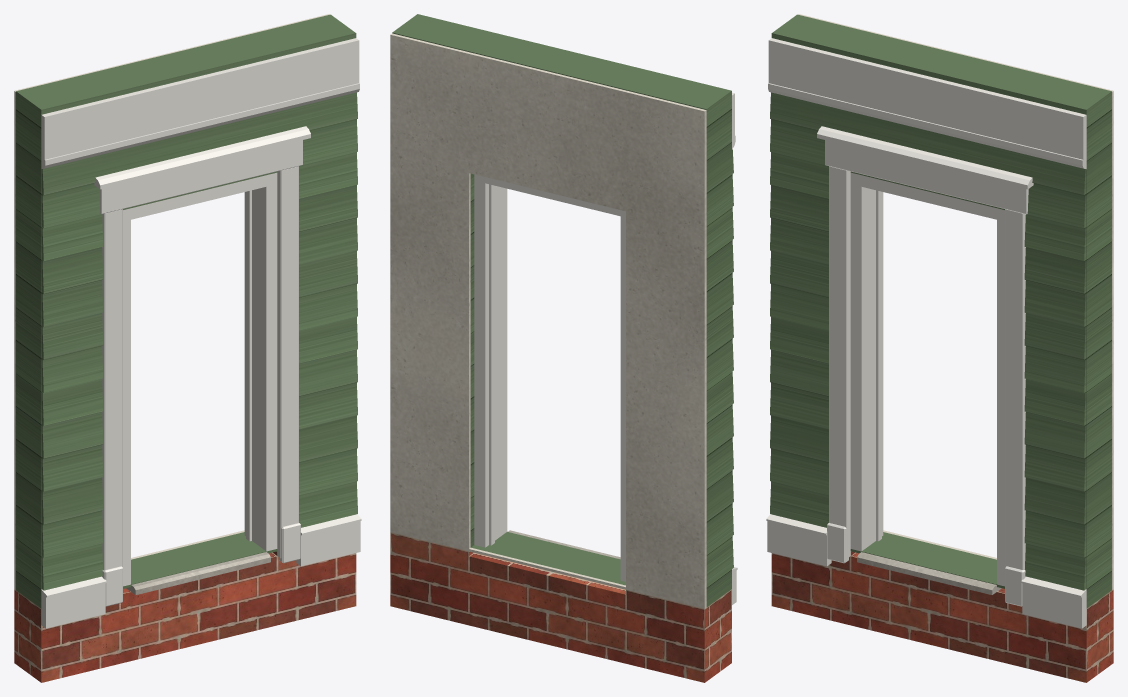
File: wall_siding_door.glb
3 views of the same model, side by side, from view 1: azimuth 30°, elevation 25°; view 2: azimuth 150°, elevation 25°; view 3: azimuth 330°, elevation 25° (orthographic).
Parts seen in each view (by area): view 1: wall_siding_door_siding, wall_siding_door_trim, wall_siding_door_brick, wall_siding_door_frame, wall_siding_door_plaster, wall_siding_door_cap; view 2: wall_siding_door_plaster, wall_siding_door_siding, wall_siding_door_brick, wall_siding_door_frame; view 3: wall_siding_door_siding, wall_siding_door_trim, wall_siding_door_brick, wall_siding_door_frame, wall_siding_door_plaster, wall_siding_door_cap.
Boxes of the visible parts, bbox=[...] form: wall_siding_door_siding: bbox=[16, 14, 357, 608]; wall_siding_door_trim: bbox=[41, 38, 361, 628]; wall_siding_door_brick: bbox=[14, 551, 356, 682]; wall_siding_door_frame: bbox=[123, 172, 277, 586]; wall_siding_door_plaster: bbox=[14, 14, 329, 589]; wall_siding_door_cap: bbox=[126, 552, 270, 594]; wall_siding_door_plaster: bbox=[390, 33, 706, 608]; wall_siding_door_siding: bbox=[392, 14, 733, 606]; wall_siding_door_brick: bbox=[390, 532, 731, 682]; wall_siding_door_frame: bbox=[474, 174, 625, 581]; wall_siding_door_siding: bbox=[770, 14, 1111, 608]; wall_siding_door_trim: bbox=[766, 38, 1086, 628]; wall_siding_door_brick: bbox=[771, 551, 1113, 682]; wall_siding_door_frame: bbox=[850, 172, 1004, 586]; wall_siding_door_plaster: bbox=[798, 14, 1113, 589]; wall_siding_door_cap: bbox=[857, 552, 1001, 594].
Size of the model in its own units: 2 by 3.48 by 0.375.
6 materials, 4 textured.
